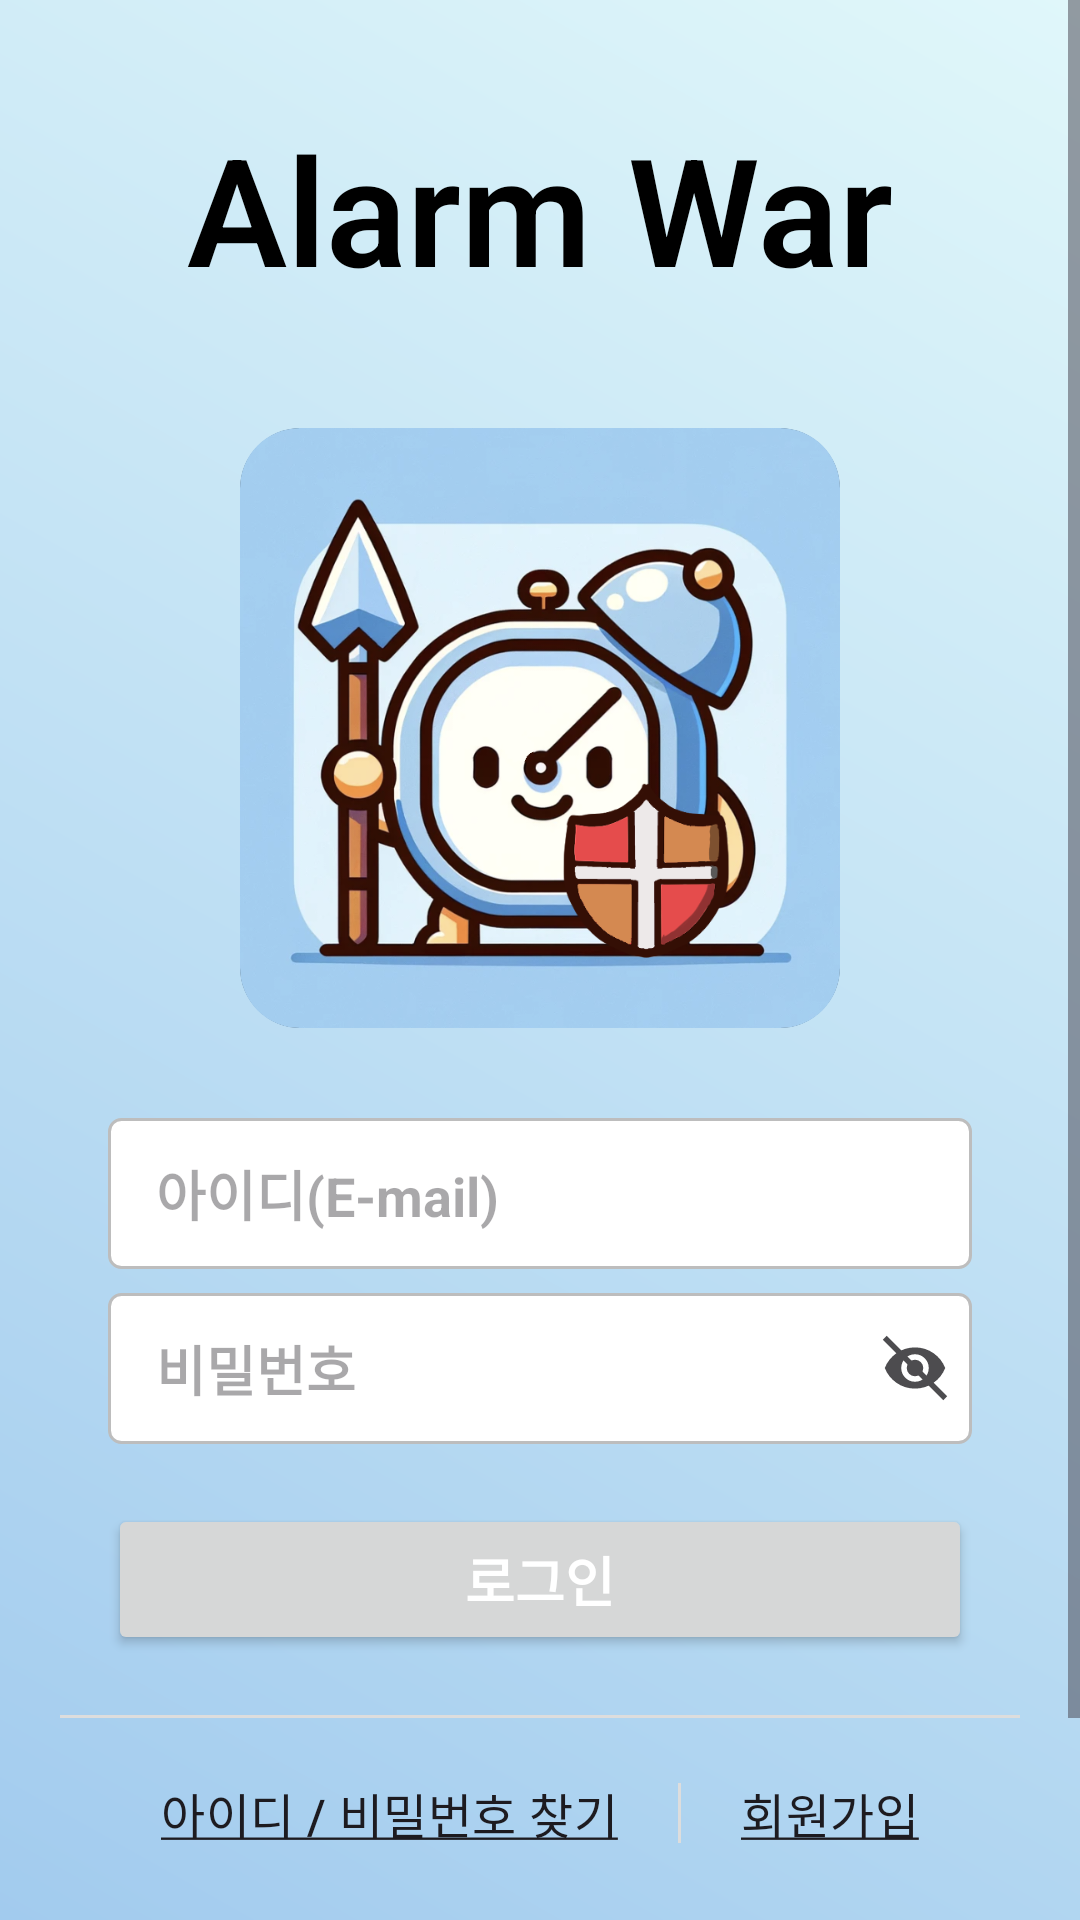

Locate icon controls on the screen. Image size 1080px x 1920px, boxes as (x1, y1, x2, y2).
eye off: (883, 1336, 947, 1400)
